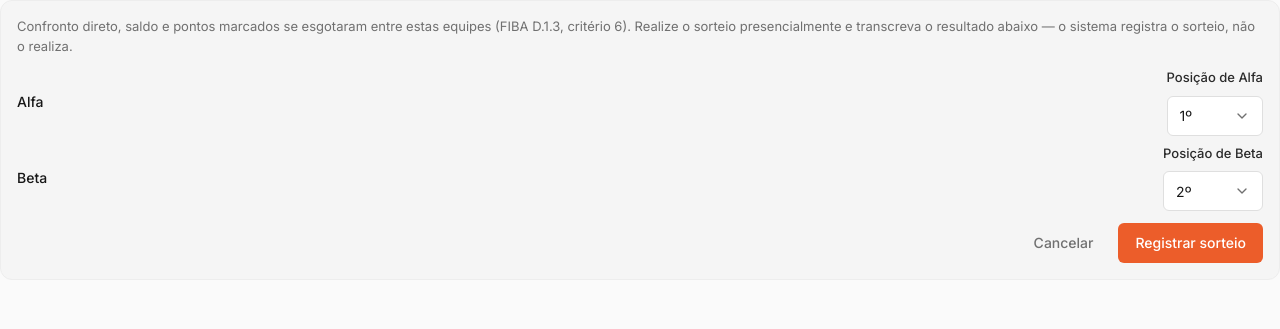
Test: TiebreakPanel › refuses to save an order that repeats a position
The image size is (1280, 329).
Click the button named "posição de alfa" at [1215, 116], box [1166, 96, 1263, 136]
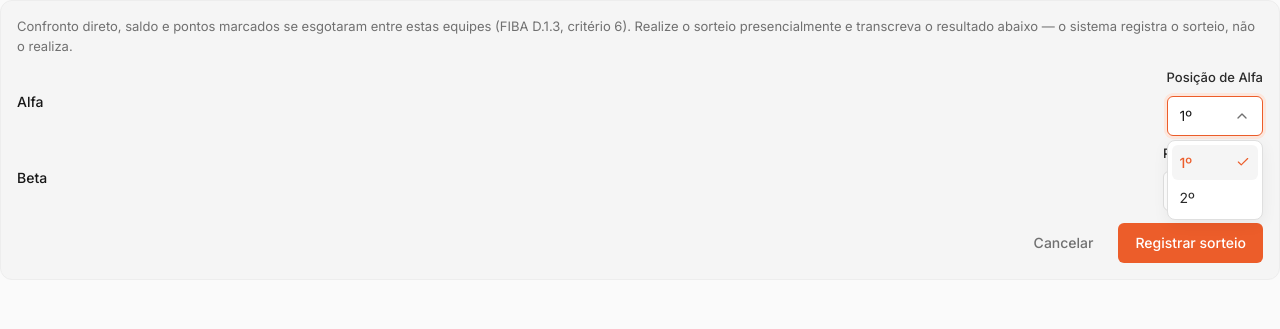
Click the option "1º" at [1215, 162], box [1172, 144, 1258, 180]
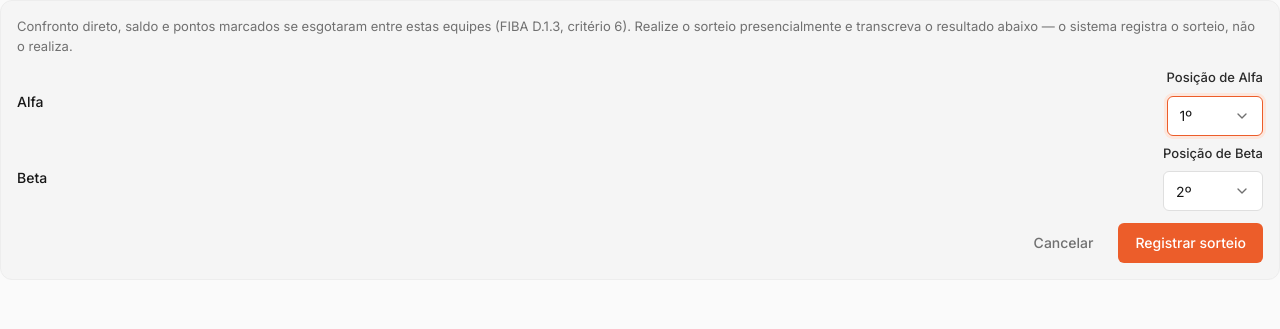
Click the button named "posição de beta" at [1213, 191], box [1163, 171, 1263, 211]
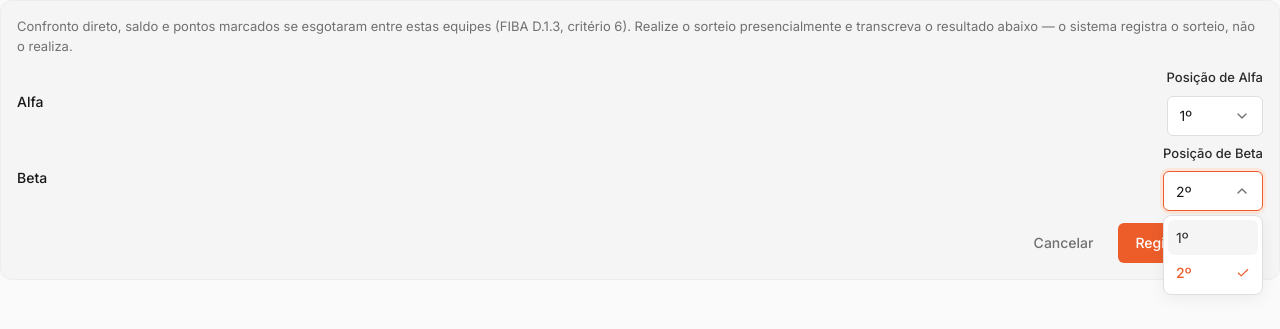
Click the option "1º" at [1213, 238], box [1168, 220, 1258, 255]
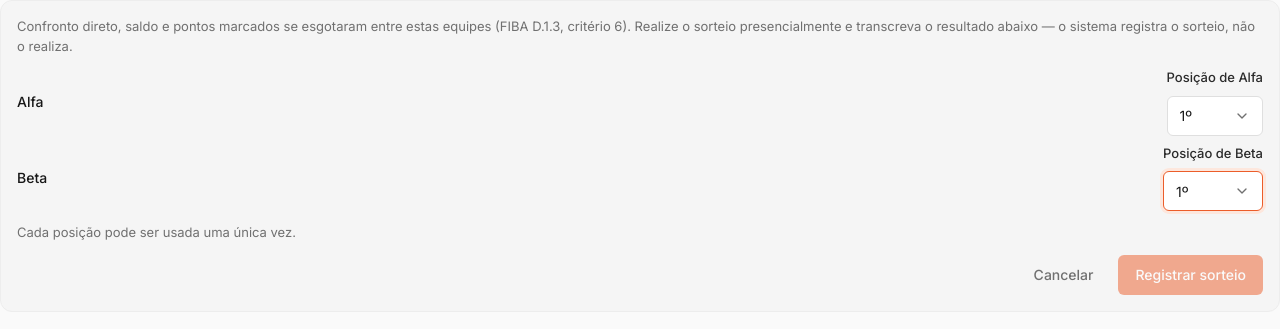
Check: the button "Registrar sorteio" is disabled, box [1118, 254, 1263, 294]
